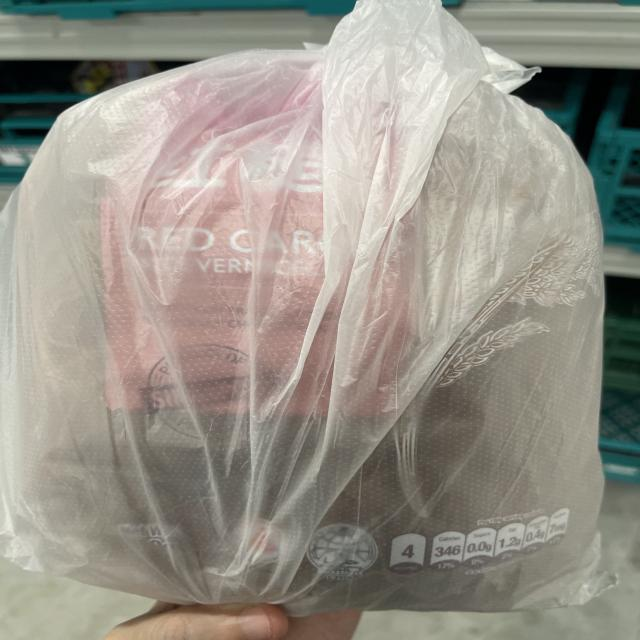object_name: (97, 100, 580, 586)
